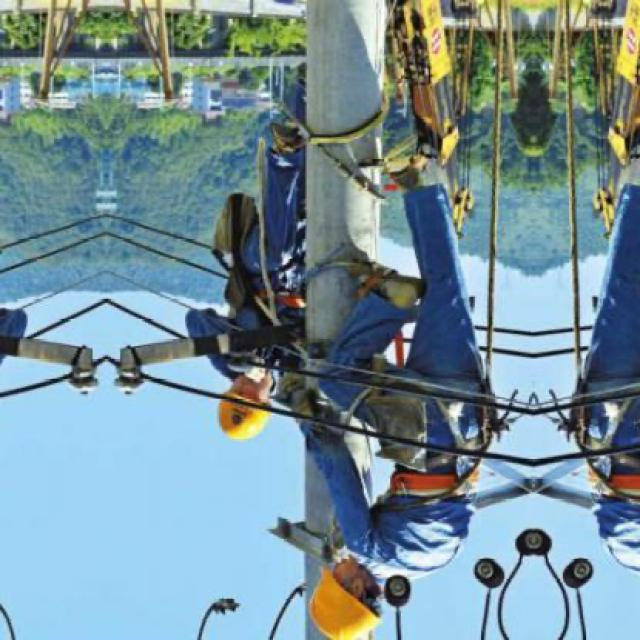con casco: (282, 494, 423, 640), (211, 339, 298, 453)
